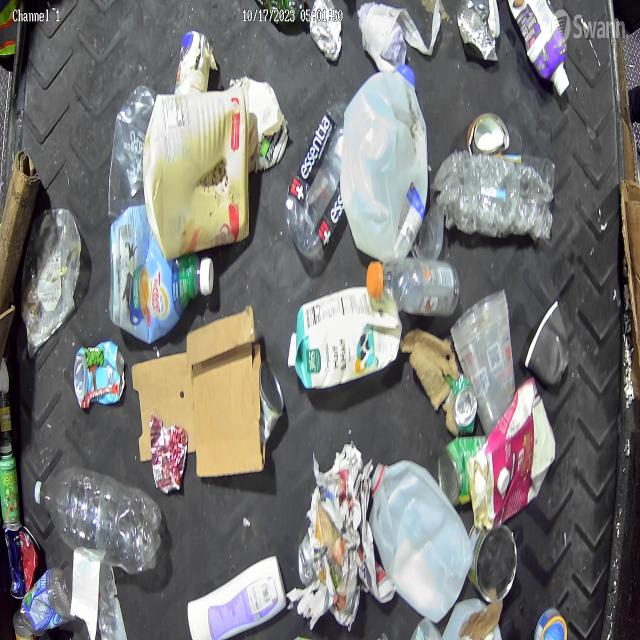can: (437, 434, 485, 507), (78, 339, 125, 408), (455, 0, 499, 62), (260, 365, 285, 446), (470, 112, 510, 156)
milk_jug: (340, 66, 429, 261), (371, 455, 473, 620)
non_white_jug: (288, 285, 398, 389)
plastic_bottle: (35, 470, 163, 574), (371, 256, 458, 316), (16, 567, 70, 636)
